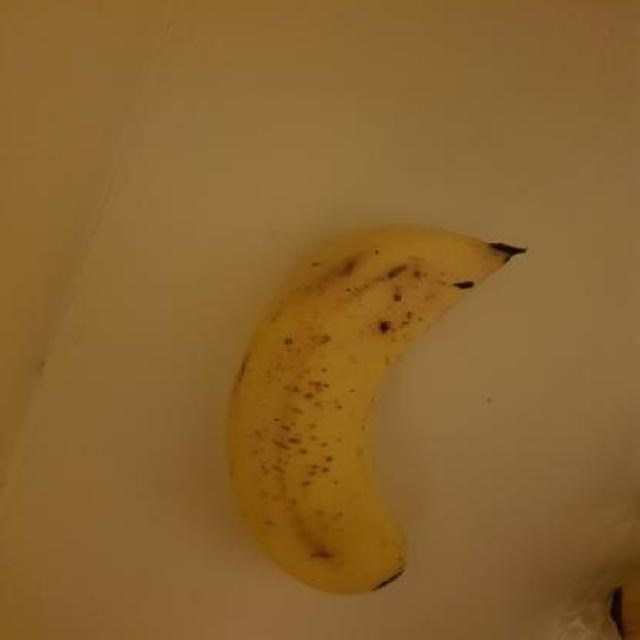banana: (214, 215, 532, 600)
